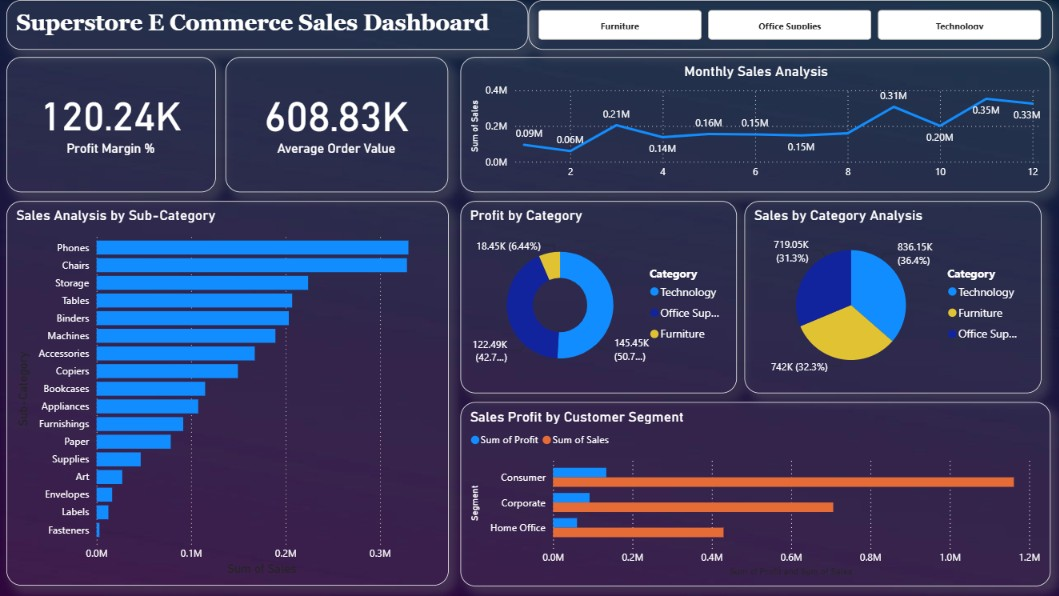

This screenshot's page, from the dashboard's own definition file:
{"tool":"powerbi","page":{"name":"Page 1","canvas":[1280,720],"ordinal":0},"visuals":[{"type":"textbox","box":[9.6,0,629.8,60.4],"z":0},{"type":"lineChart","title":"Monthly Sales Analysis","fields":{"Category":["Sample - Superstore.Order Month"],"Y":["Sum(Sample - Superstore.Sales)"]},"box":[557.1,68.6,712.2,163.3],"z":1000},{"type":"barChart","title":"Sales Analysis by Sub-Category","fields":{"Category":["Sample - Superstore.Sub-Category"],"Y":["Sum(Sample - Superstore.Sales)"]},"box":[9.6,242.9,533.8,463.8],"z":2000},{"type":"pieChart","title":"Sales by Category Analysis","fields":{"Y":["Sum(Sample - Superstore.Sales)"],"Category":["Sample - Superstore.Category"]},"box":[900.2,242.9,358.1,231.9],"z":3000},{"type":"cardVisual","fields":{"Data":["Sum(Sample - Superstore.Profit Margin %)"]},"box":[9.6,68.6,252.5,163.3],"z":4000},{"type":"cardVisual","fields":{"Data":["Sum(Sample - Superstore.Average Order Value)"]},"box":[274.4,68.6,269,163.3],"z":5000},{"type":"clusteredBarChart","title":"Sales Profit by Customer Segment","fields":{"Category":["Sample - Superstore.Segment"],"Y":["Sum(Sample - Superstore.Profit)","Sum(Sample - Superstore.Sales)"]},"box":[557.1,484.4,712.2,222.3],"z":6000},{"type":"donutChart","title":"Profit by Category","fields":{"Y":["Sum(Sample - Superstore.Profit)"],"Category":["Sample - Superstore.Category"]},"box":[557.1,242.9,333.4,231.9],"z":7000},{"type":"advancedSlicerVisual","fields":{"Values":["Sample - Superstore.Category"]},"box":[639.5,0,632.6,60.4],"z":8000}]}

Visuals, with their boxes in screenshot pixels (x1, y1, x2, y2), scaled from the page's 1280x720 canvas onto the 1059x596 screenshot:
textbox: <region>8, 0, 529, 50</region>
"Monthly Sales Analysis" lineChart: <region>461, 57, 1050, 192</region>
"Sales Analysis by Sub-Category" barChart: <region>8, 201, 450, 585</region>
"Sales by Category Analysis" pieChart: <region>745, 201, 1041, 393</region>
cardVisual - Sum(Sample - Superstore.Profit Margin %): <region>8, 57, 217, 192</region>
cardVisual - Sum(Sample - Superstore.Average Order Value): <region>227, 57, 450, 192</region>
"Sales Profit by Customer Segment" clusteredBarChart: <region>461, 401, 1050, 585</region>
"Profit by Category" donutChart: <region>461, 201, 737, 393</region>
advancedSlicerVisual - Sample - Superstore.Category: <region>529, 0, 1052, 50</region>
